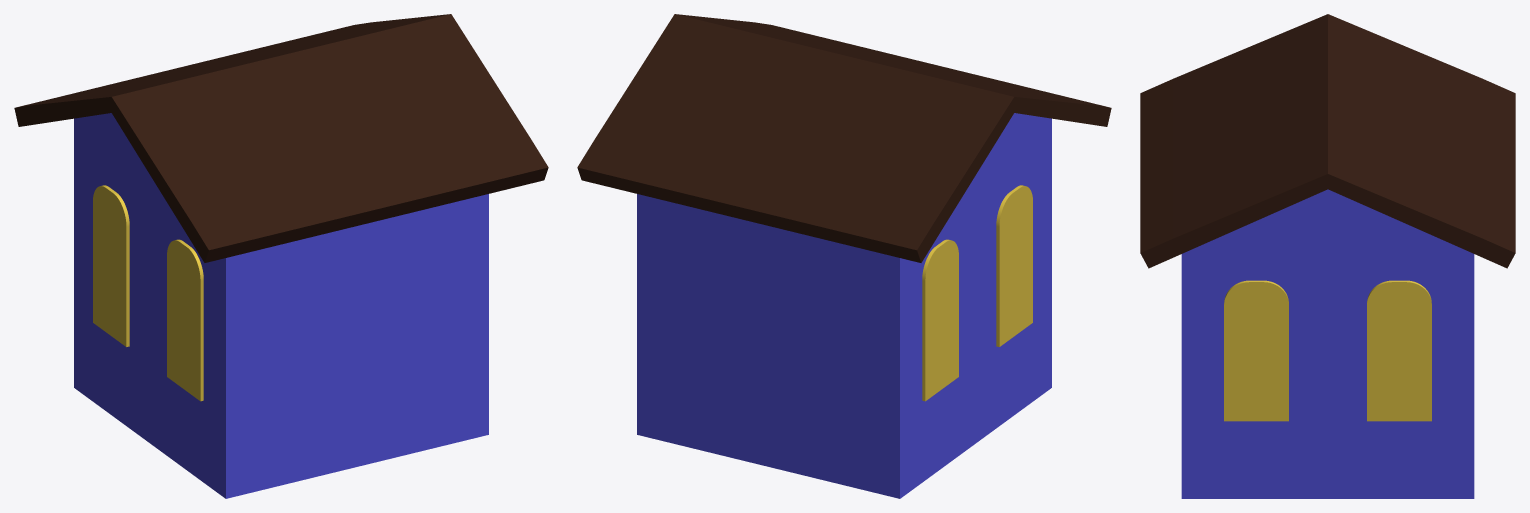
The model's file is house.glb.
The picture shows the model from 3 angles, left to right: view 1: azimuth 30°, elevation 25°; view 2: azimuth 150°, elevation 25°; view 3: azimuth 270°, elevation 25°; orthographic projection. The views are drawn at different scales.
Visible parts, largest first — view 1: House, Toiture, Windows; view 2: House, Toiture, Windows; view 3: Toiture, House, Windows.
Boxes of the visible parts, <box> form: House: <box>74,113,488,498</box>; Toiture: <box>14,14,548,262</box>; Windows: <box>93,185,203,401</box>; House: <box>637,113,1051,498</box>; Toiture: <box>577,14,1111,262</box>; Windows: <box>922,185,1032,401</box>; Toiture: <box>1140,14,1515,268</box>; House: <box>1181,189,1474,498</box>; Windows: <box>1224,280,1431,421</box>.
Size of the model in its own units: 1.29 by 1.29 by 1.28.
